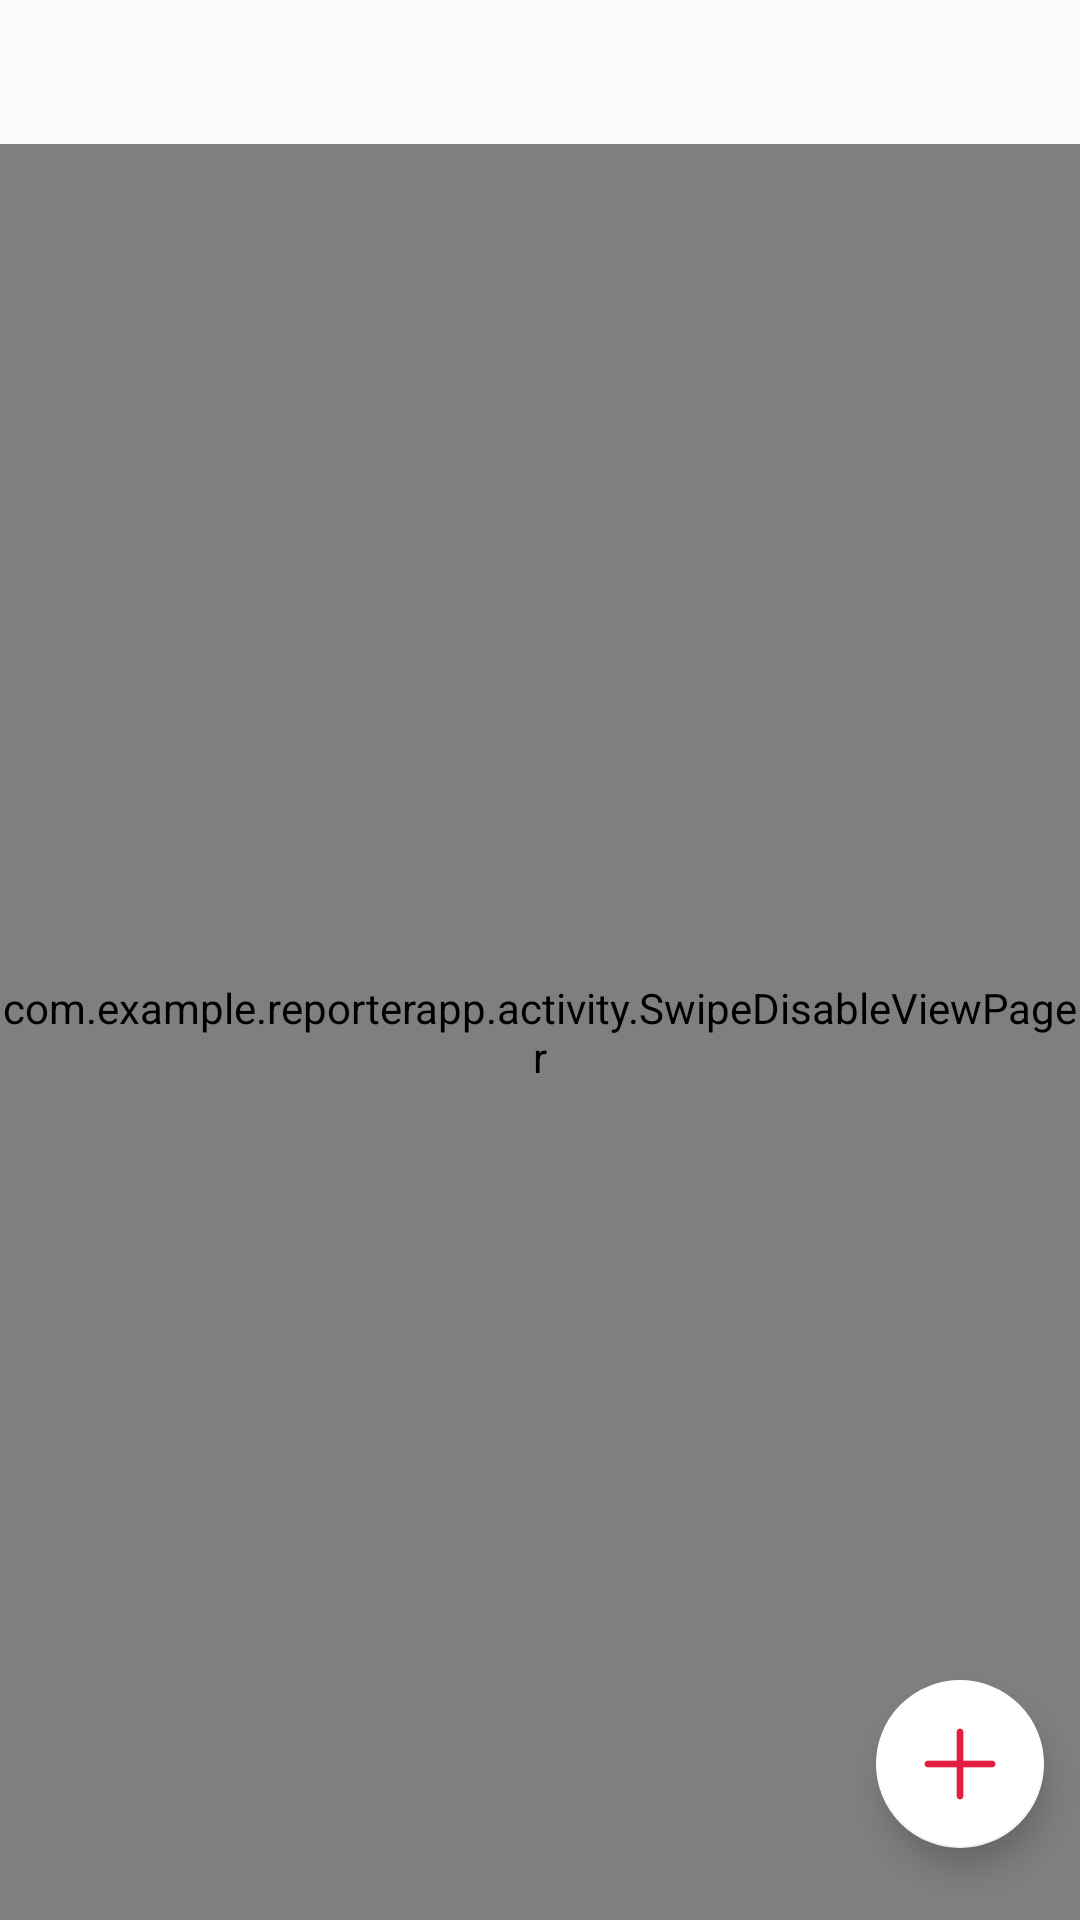

Icons on this 1080w x 1920h Android screen, each with its box as (x1, y1, x2, y2):
add: (876, 1680, 1044, 1848)
